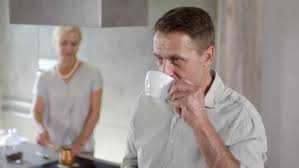white_male: (138, 24, 221, 105)
